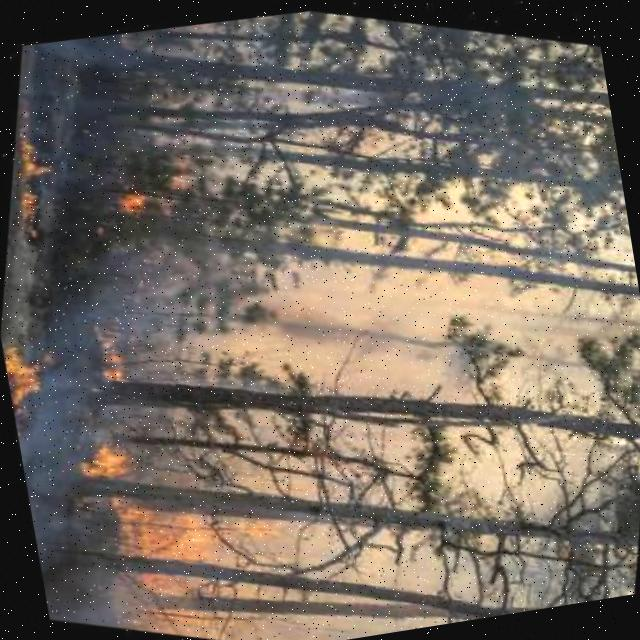fire: (102, 475, 307, 600), (0, 91, 81, 244), (79, 431, 168, 504), (77, 315, 151, 396), (0, 332, 66, 416), (91, 174, 173, 239)
